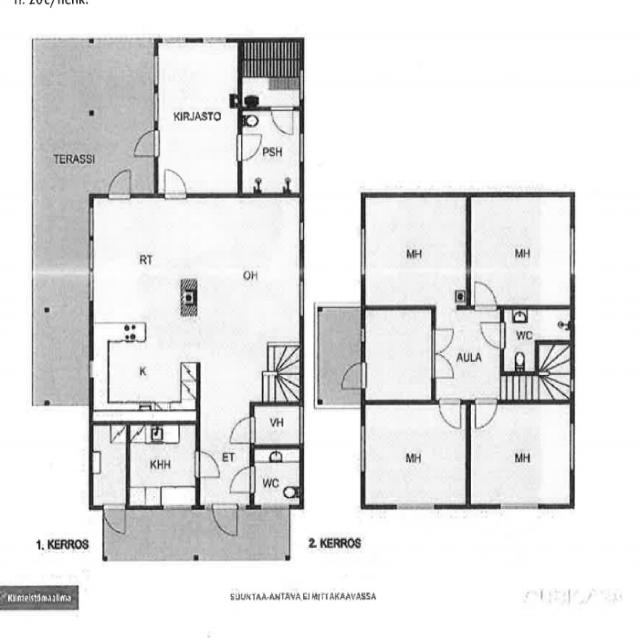door: (474, 278, 497, 310), (214, 505, 236, 537), (228, 417, 254, 443), (109, 168, 131, 198), (475, 400, 497, 430), (165, 168, 186, 199), (196, 451, 221, 477), (104, 505, 125, 535), (133, 131, 158, 156), (229, 467, 254, 492), (340, 363, 365, 388), (479, 322, 504, 347), (238, 134, 262, 160), (440, 399, 460, 429), (431, 353, 455, 378), (431, 329, 455, 354), (272, 106, 292, 135)
